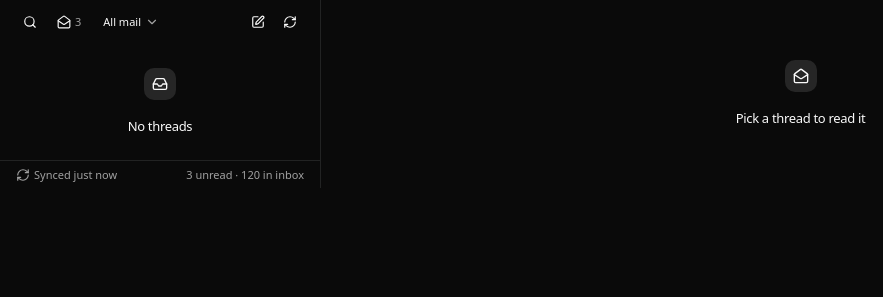
it: says which tab is empty, rather than implying the inbox is
This screenshot has width=883, height=297.
Click the button with aria-label "choose a mailbox".
click(131, 22)  # box [94,10,168,34]
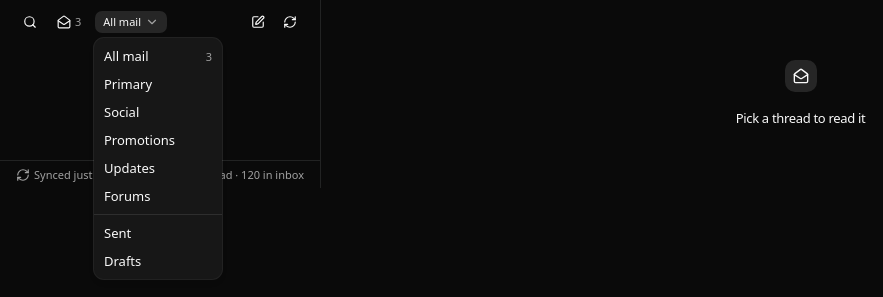
Click the menu item "Promotions".
click(140, 140)  # box [104,131,175,149]
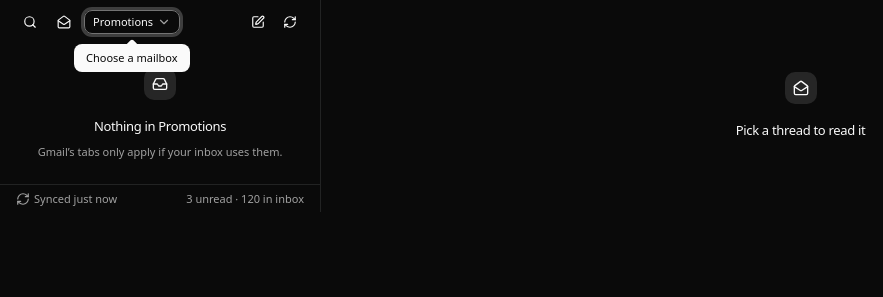
Check: the menu is gone
Check: the text "Nothing in Promotions" is shown, box [94,116,226,136]
